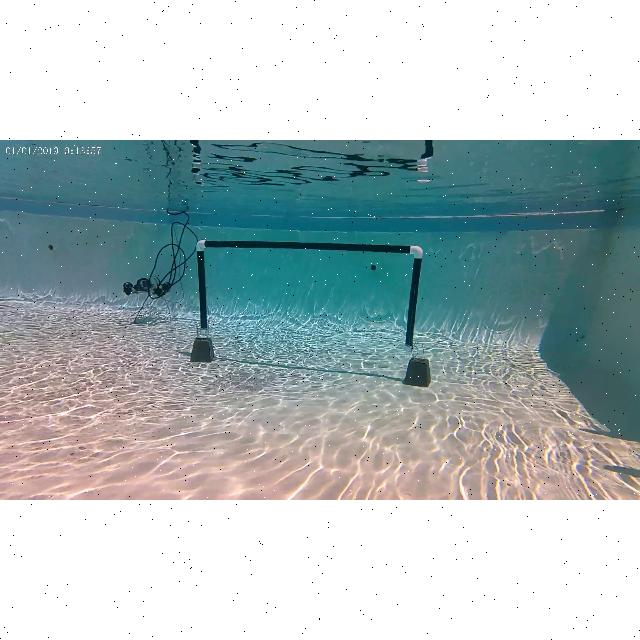prequal gate: (196, 240, 424, 352)
prequal gate leg l: (195, 236, 212, 340)
prequal gate leg r: (404, 242, 424, 351)
